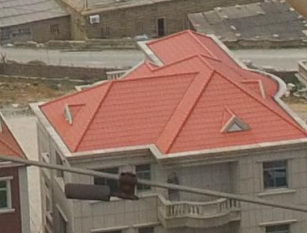damper_defect: (62, 168, 146, 202)
